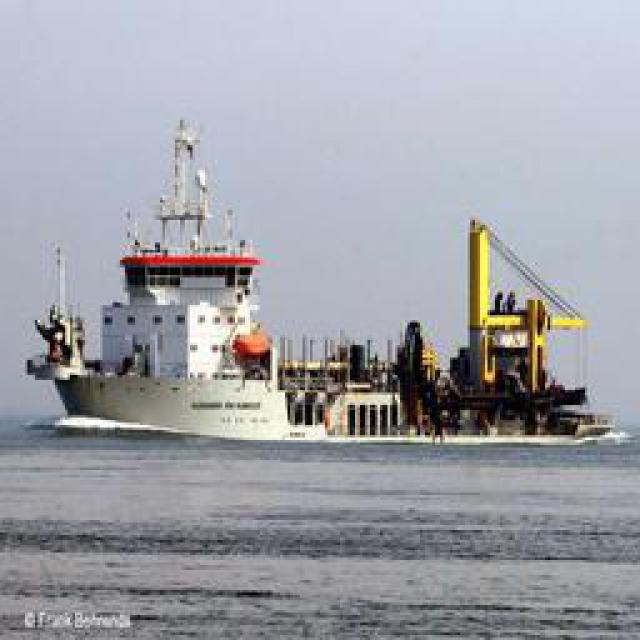Ship: (28, 110, 623, 443)
